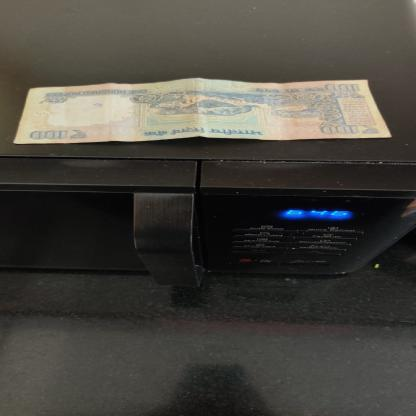Old100Back: (13, 77, 392, 145)
